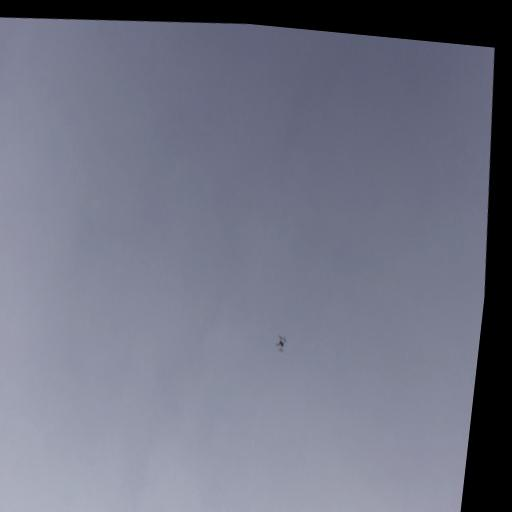drones: (274, 333, 289, 354)
